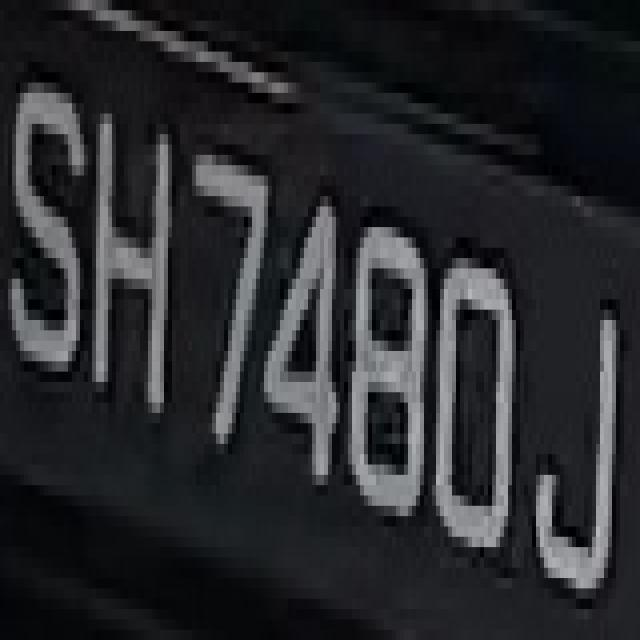0: (424, 227, 524, 568)
4: (260, 175, 344, 506)
7: (188, 113, 276, 475)
8: (348, 186, 428, 568)
H: (88, 82, 164, 464)
J: (528, 289, 628, 609)
S: (16, 41, 88, 424)
